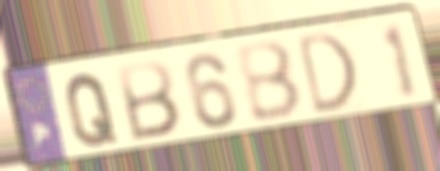1: (380, 19, 418, 103)
6: (182, 49, 239, 132)
B: (231, 38, 306, 126), (114, 58, 184, 144)
D: (294, 28, 360, 119)
Q: (63, 71, 121, 150)
